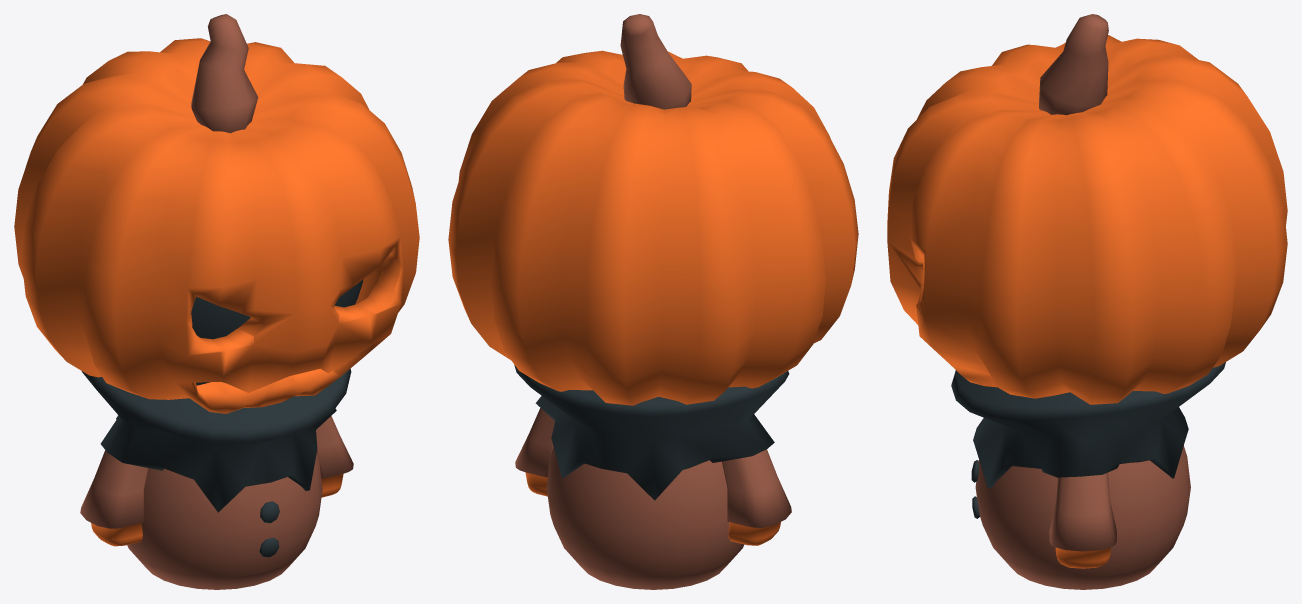
The model's file is char_jack.glb.
3 views of the same model, side by side, from view 1: azimuth 30°, elevation 25°; view 2: azimuth 150°, elevation 25°; view 3: azimuth 270°, elevation 25° (orthographic).
Parts seen in each view (by area): view 1: character_jackHat, Cube.028, character_jackArmRight, character_jackHead, character_jackArmLeft.; view 2: character_jackHat, Cube.028, character_jackArmRight, character_jackArmLeft.; view 3: character_jackHat, Cube.028, character_jackArmLeft..
Boxes of the visible parts, x1,y1,x2,y2 form: character_jackHat: (14,14,419,413); Cube.028: (81,368,351,589); character_jackArmRight: (80,450,148,546); character_jackHead: (191,279,363,385); character_jackArmLeft.: (316,416,353,497); character_jackHat: (448,14,858,405); Cube.028: (514,365,789,589); character_jackArmRight: (722,449,791,545); character_jackArmLeft.: (515,408,554,496); character_jackHat: (887,14,1287,404); Cube.028: (951,362,1225,589); character_jackArmLeft.: (1049,472,1116,568).
Size of the model in its own units: 1.34 by 1.96 by 1.3.
